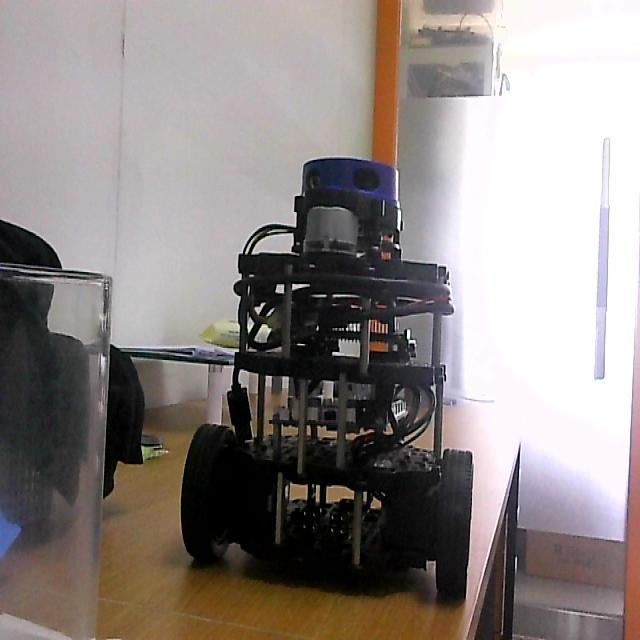turtle: (180, 155, 475, 605)
